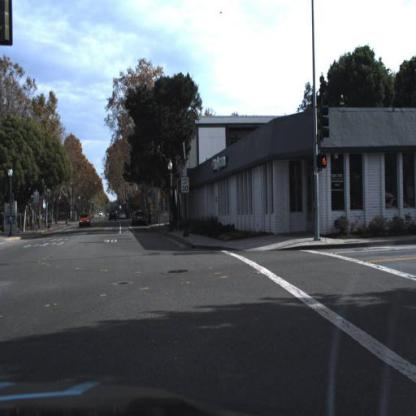car: (130, 207, 152, 229), (131, 207, 147, 228), (80, 214, 90, 229), (111, 209, 119, 222)
